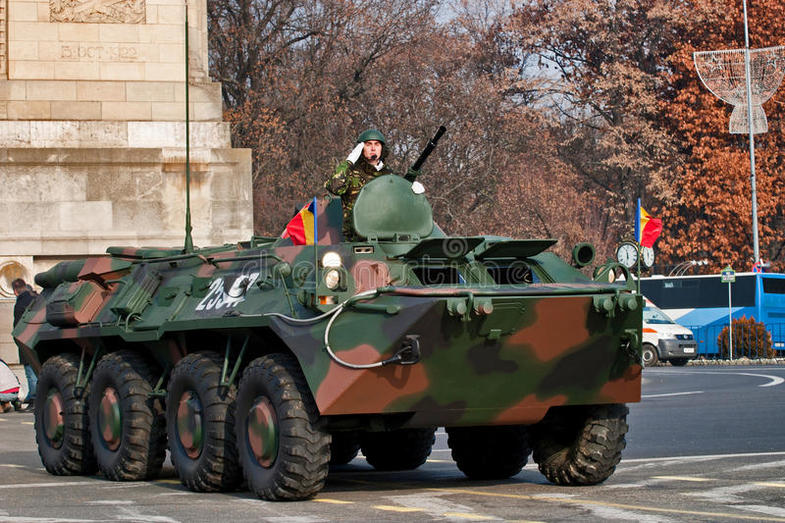btr: (18, 220, 638, 493)
